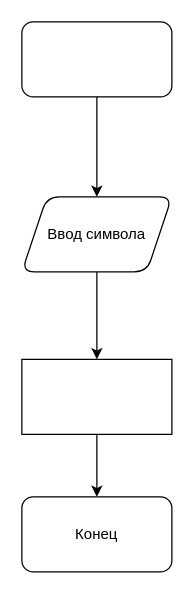
The diagram is 194 pixels wide and 594 high, and some of its shapes have lost their labels. Here are the shapes that lost their labels. From the top down, the centre of each, then its label:
At point 96,59: "Начало".
At point 96,396: "Код символа+20".
